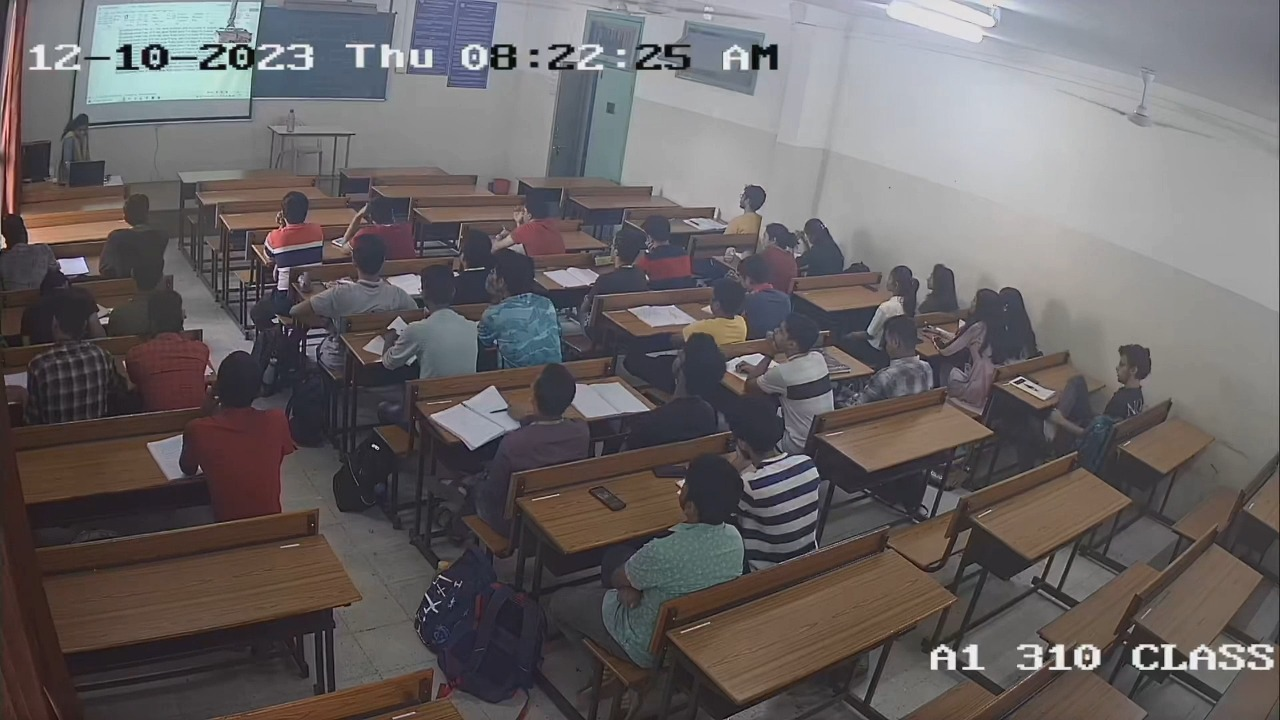cell-phones: (586, 482, 626, 510), (649, 461, 686, 483), (591, 253, 616, 267), (860, 281, 881, 294)
person: (608, 452, 745, 636), (723, 399, 821, 568), (586, 229, 647, 294), (871, 265, 922, 319)
